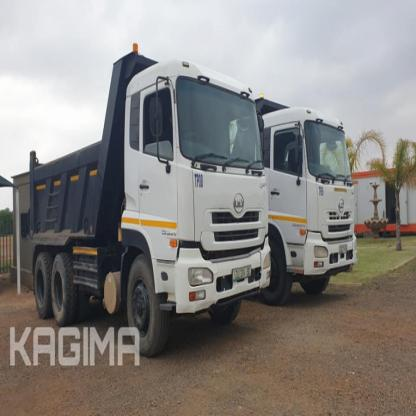dump_truck: (11, 43, 272, 345), (272, 87, 361, 310)
